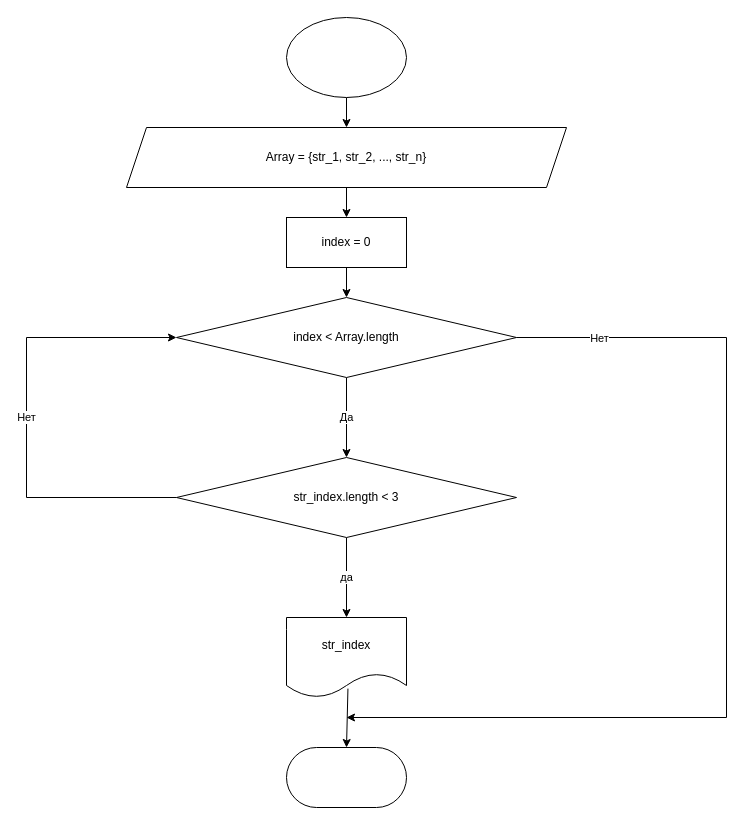
This 752x825 diagram has some shape labels left out. Each missing label, with the box of its shape:
Конец: (286, 746, 406, 808)
Начало: (286, 16, 406, 98)
